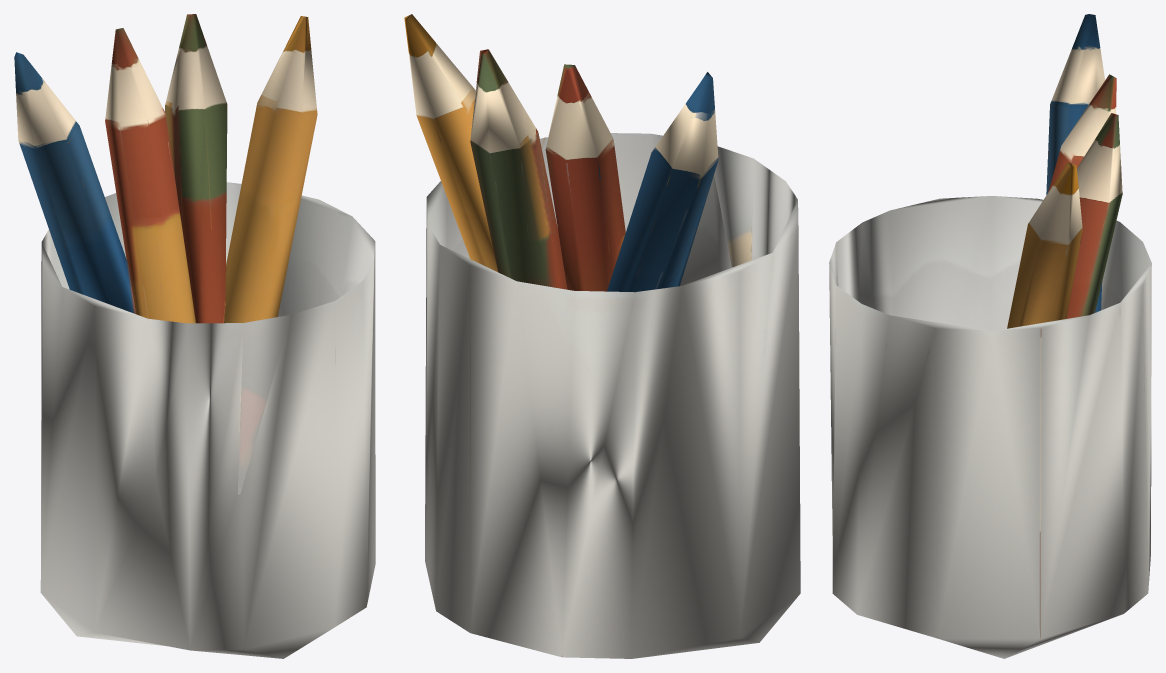
Rendered from pencil_cup.fbx.
3 views of the same model, side by side, from view 1: azimuth 30°, elevation 25°; view 2: azimuth 150°, elevation 25°; view 3: azimuth 270°, elevation 25° (orthographic). The views are drawn at different scales.
Visible parts, largest first — view 1: Mesh_0; view 2: Mesh_0; view 3: Mesh_0.
Boxes of the visible parts, x1,y1,x2,y2 form: Mesh_0: [14, 14, 375, 658]; Mesh_0: [404, 14, 800, 658]; Mesh_0: [829, 14, 1151, 658].
Bounding box in the file's own units: 52.88 × 95.17 × 53.42.
Materials: 1 (1 with a texture image).
